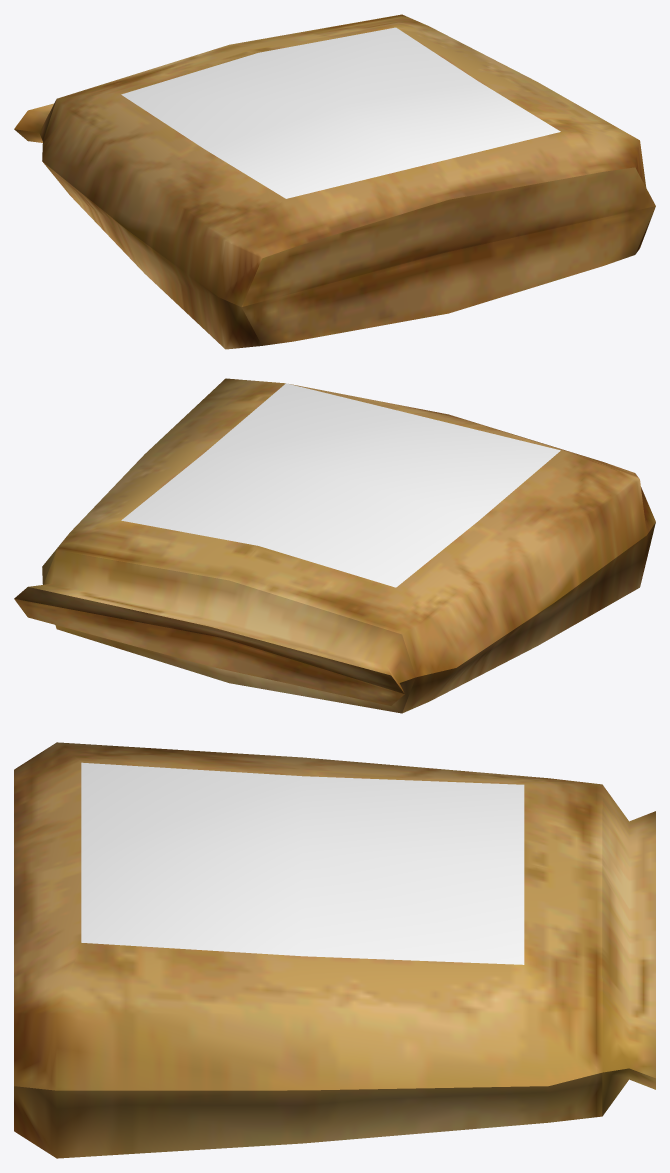
The model's file is AUGMENT_BAG.glb.
3 views of the same model, one above another, from view 1: azimuth 30°, elevation 25°; view 2: azimuth 150°, elevation 25°; view 3: azimuth 270°, elevation 25° (orthographic). The views are drawn at different scales.
Visible parts, largest first — view 1: AUGMENT_BAG; view 2: AUGMENT_BAG; view 3: AUGMENT_BAG.
Boxes of the visible parts, left/top/right/bottom form: AUGMENT_BAG: left=14, top=14, right=655, bottom=349; AUGMENT_BAG: left=14, top=378, right=655, bottom=713; AUGMENT_BAG: left=14, top=742, right=655, bottom=1158.
Size of the model in its own units: 0.62 by 0.1979 by 0.6.
Materials: 2 (1 with a texture image).
